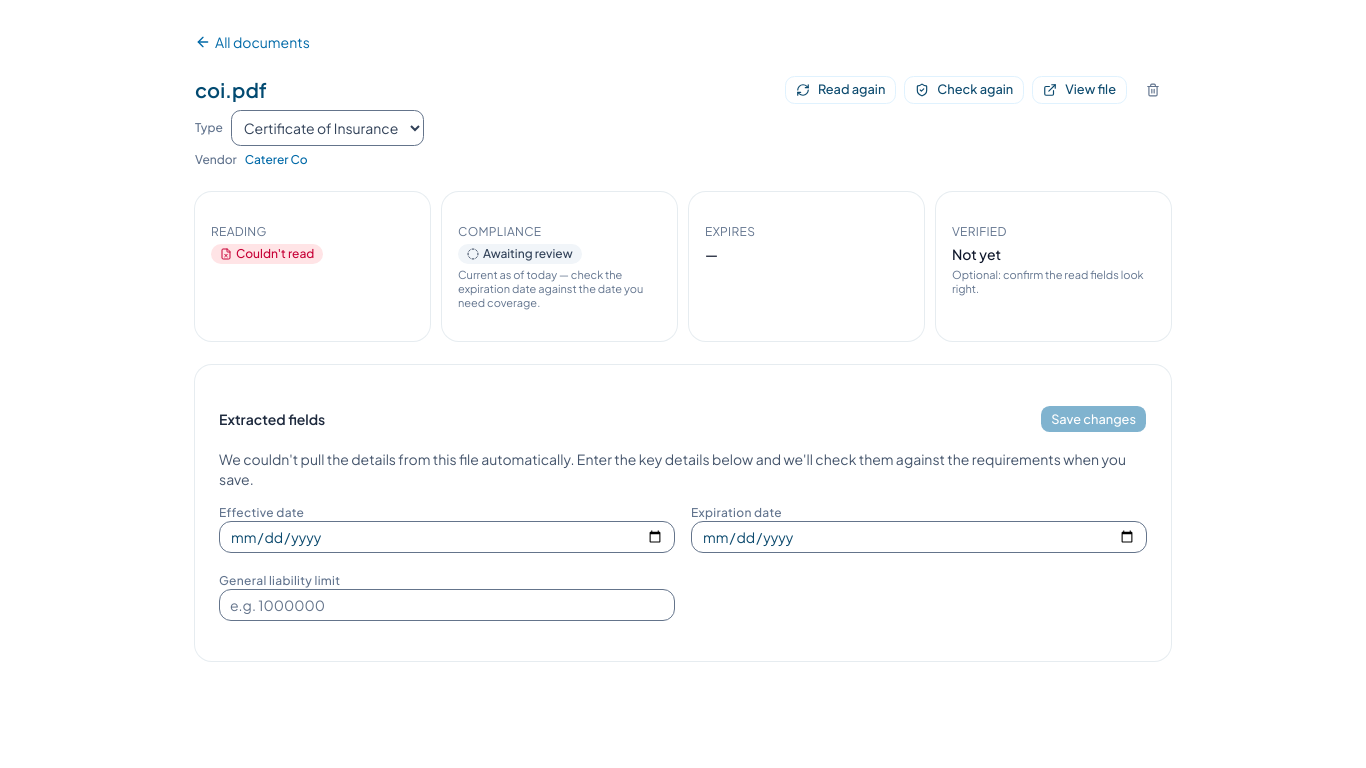
Scenario: DocumentDetailPage — pending edits vs. 'Read again' (#363) › renders typed values in the manual-entry grid and clears it on a re-read
In the field labelled "General liability limit": [447, 605] box 219,589 -> 675,621, type "1000000"
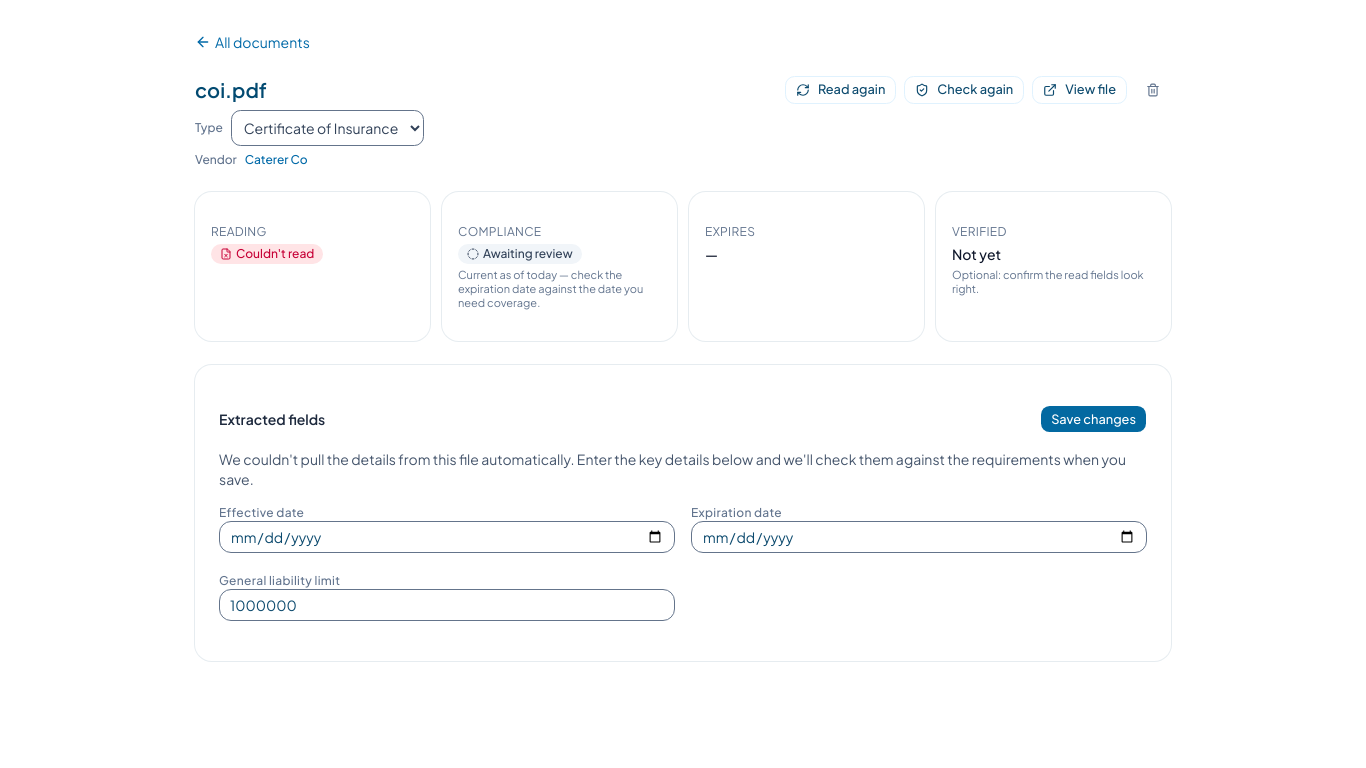
Click the button "Read again": [841, 90] box 785,76 -> 896,104
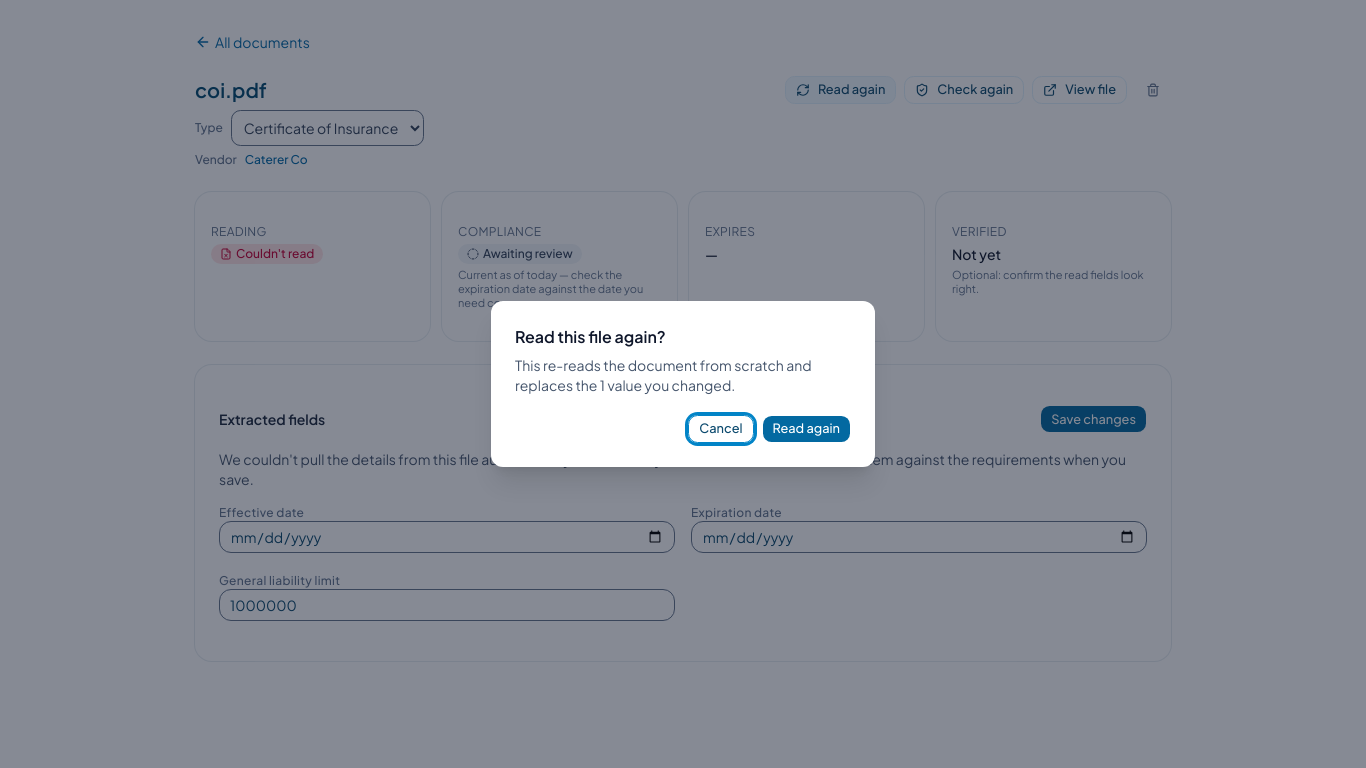
Click the button "Read again": [806, 429] box 762,415 -> 851,443
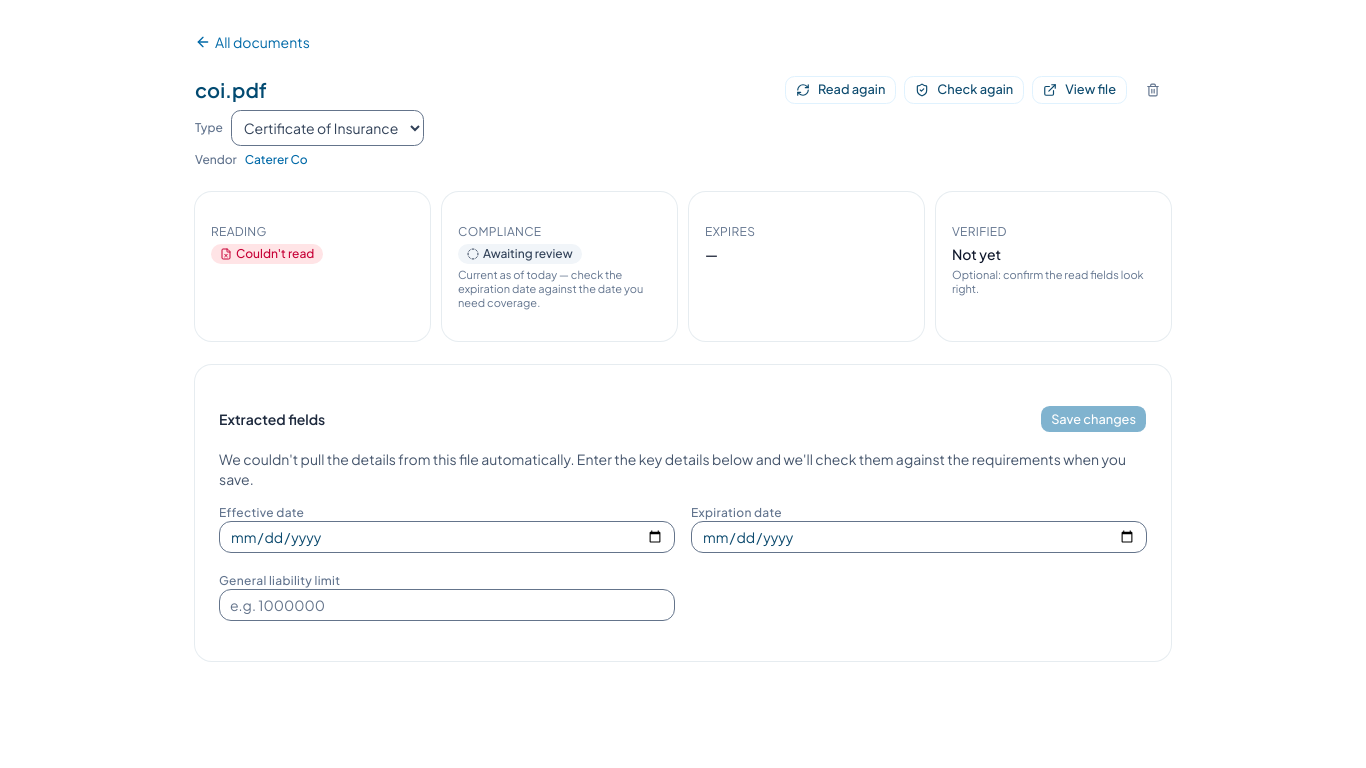
Now the field labelled "General liability limit" is empty, box 219,589 -> 675,621
Now the button "Save changes" is disabled, box 1040,405 -> 1147,433
